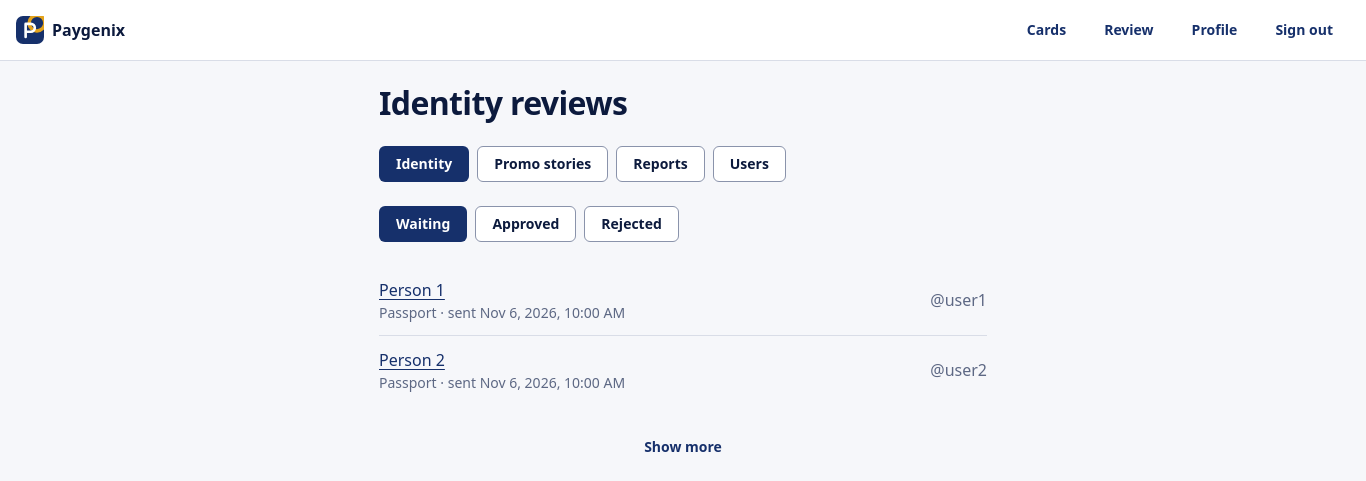
Test: admins see the Review link and pending documents, with more on request
Step 1. Click the button "Show more" → (683, 447), box [379,429,987,465]
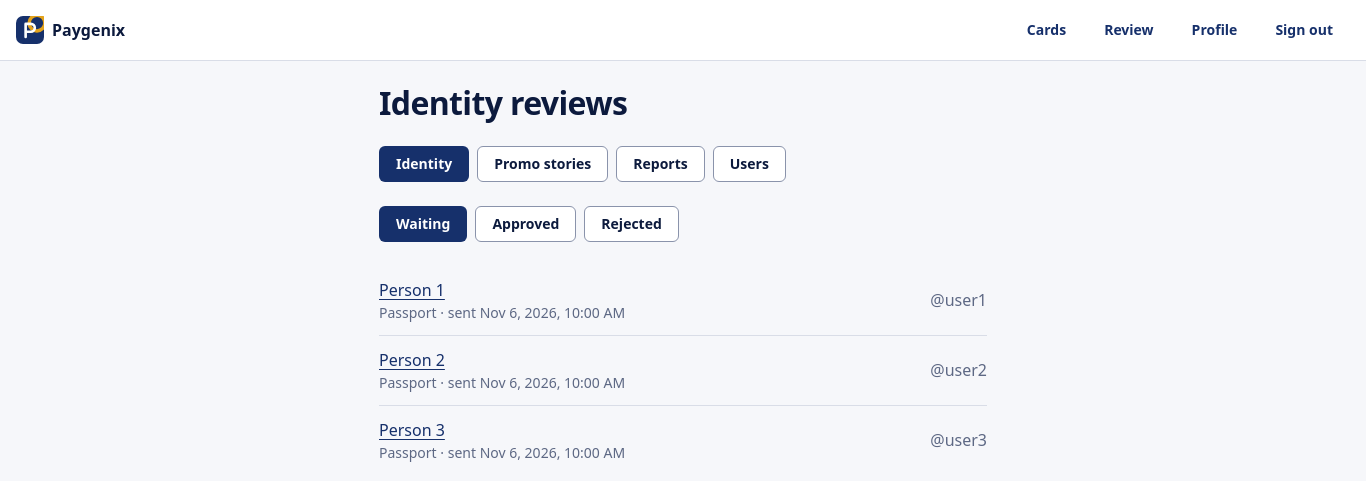
Expected: the link "Person 3" is shown, [379,419,445,441]
Expected: the button "Show more" is gone
Step 2. Click the button "Approved" → (526, 224), box [475,206,576,242]
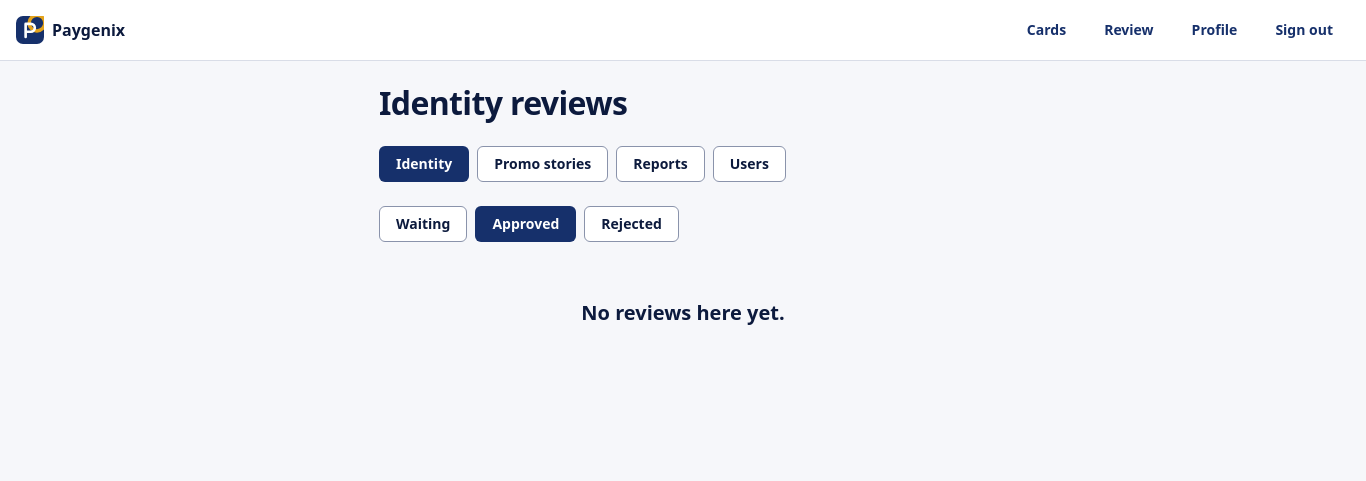
Expected: the text "No reviews here yet." is shown, [581,298,785,328]
